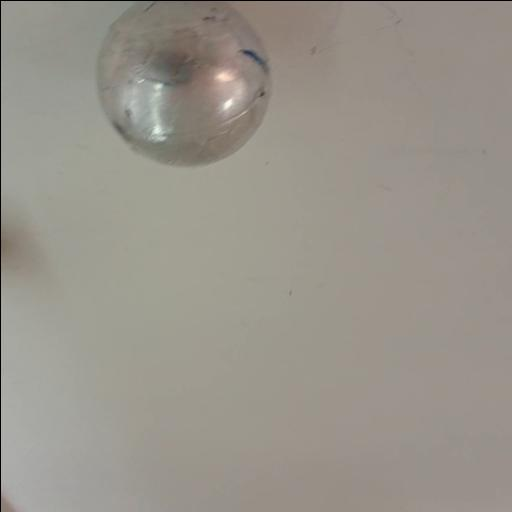alive: (90, 0, 272, 170)
